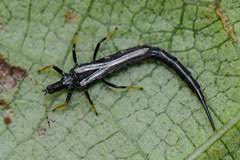Phlaeothripidae: (35, 31, 216, 133)
